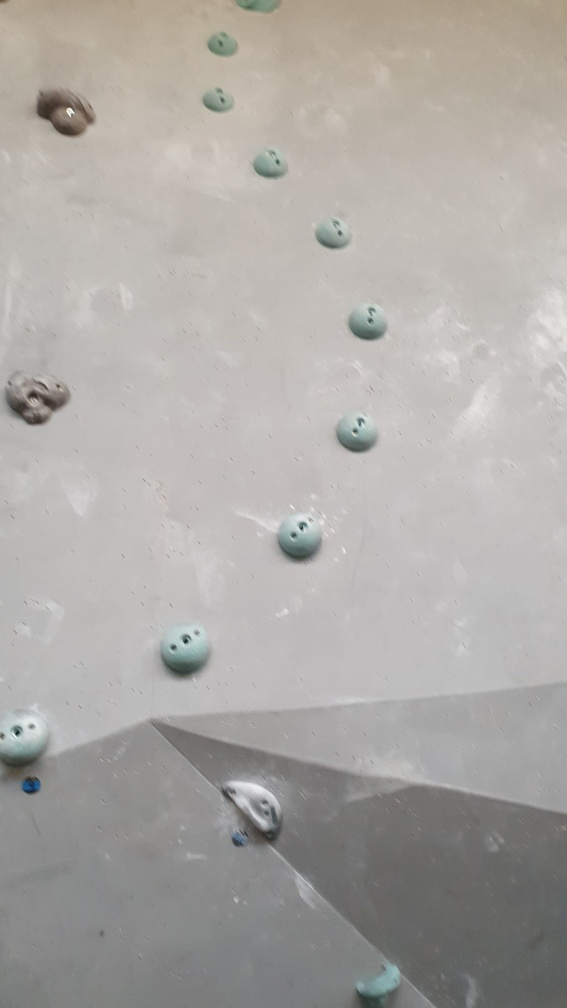Hand Start: (231, 828, 254, 856), (19, 774, 47, 795)
Jug: (6, 365, 75, 428), (33, 76, 98, 142), (351, 957, 405, 1008)
Sloper: (1, 699, 50, 770), (160, 618, 214, 676), (274, 505, 327, 564), (335, 403, 384, 451), (345, 298, 392, 347), (313, 211, 355, 250), (251, 145, 289, 180), (207, 25, 240, 60), (199, 86, 235, 114)
